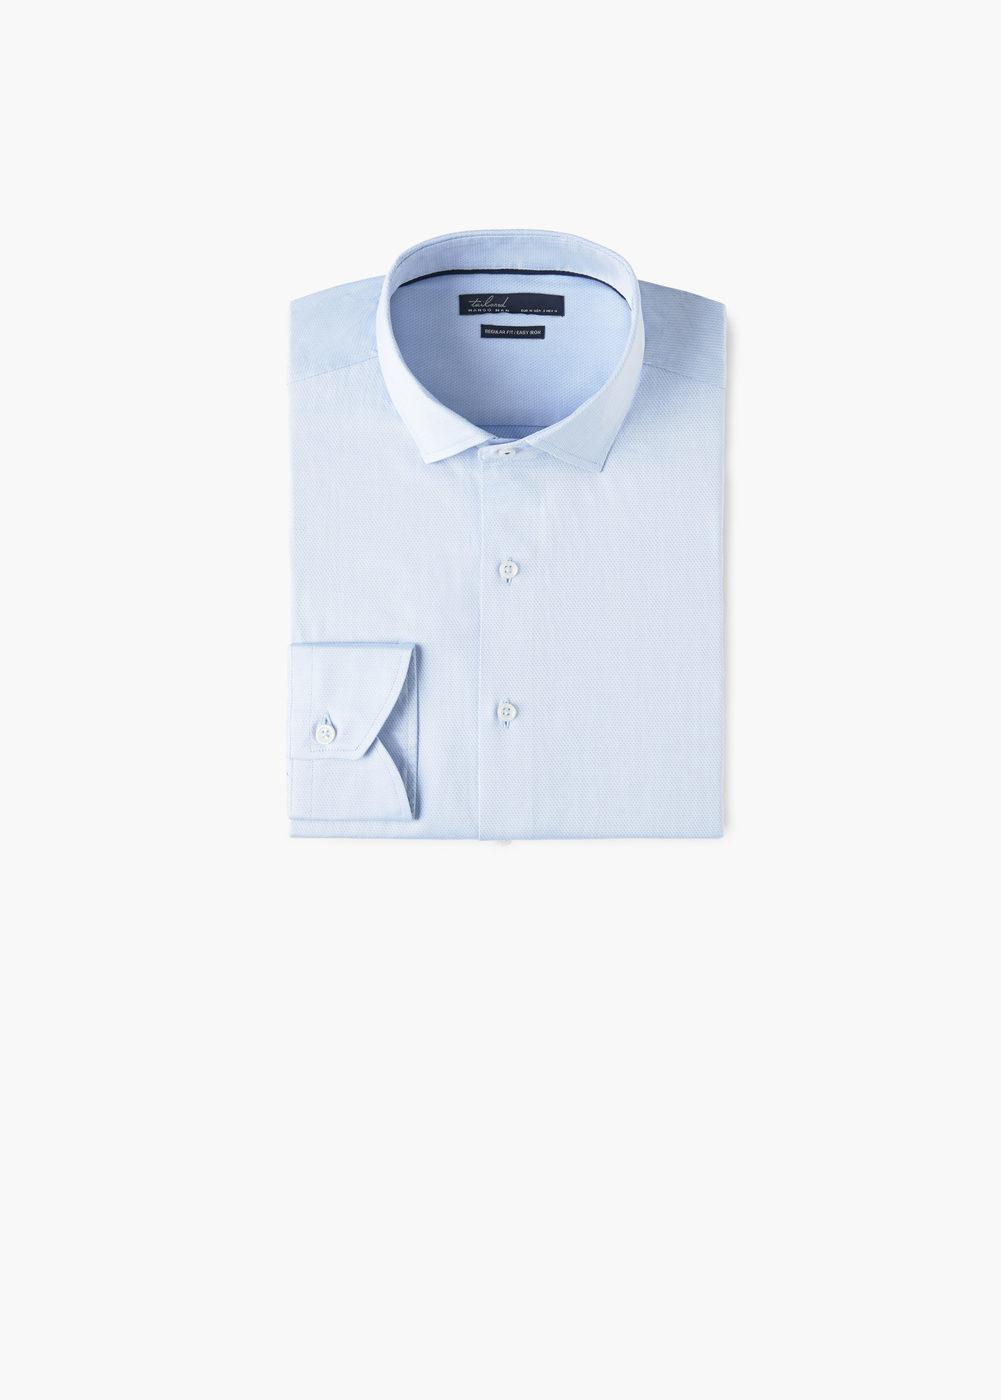teeshirt: (263, 233, 793, 893)
